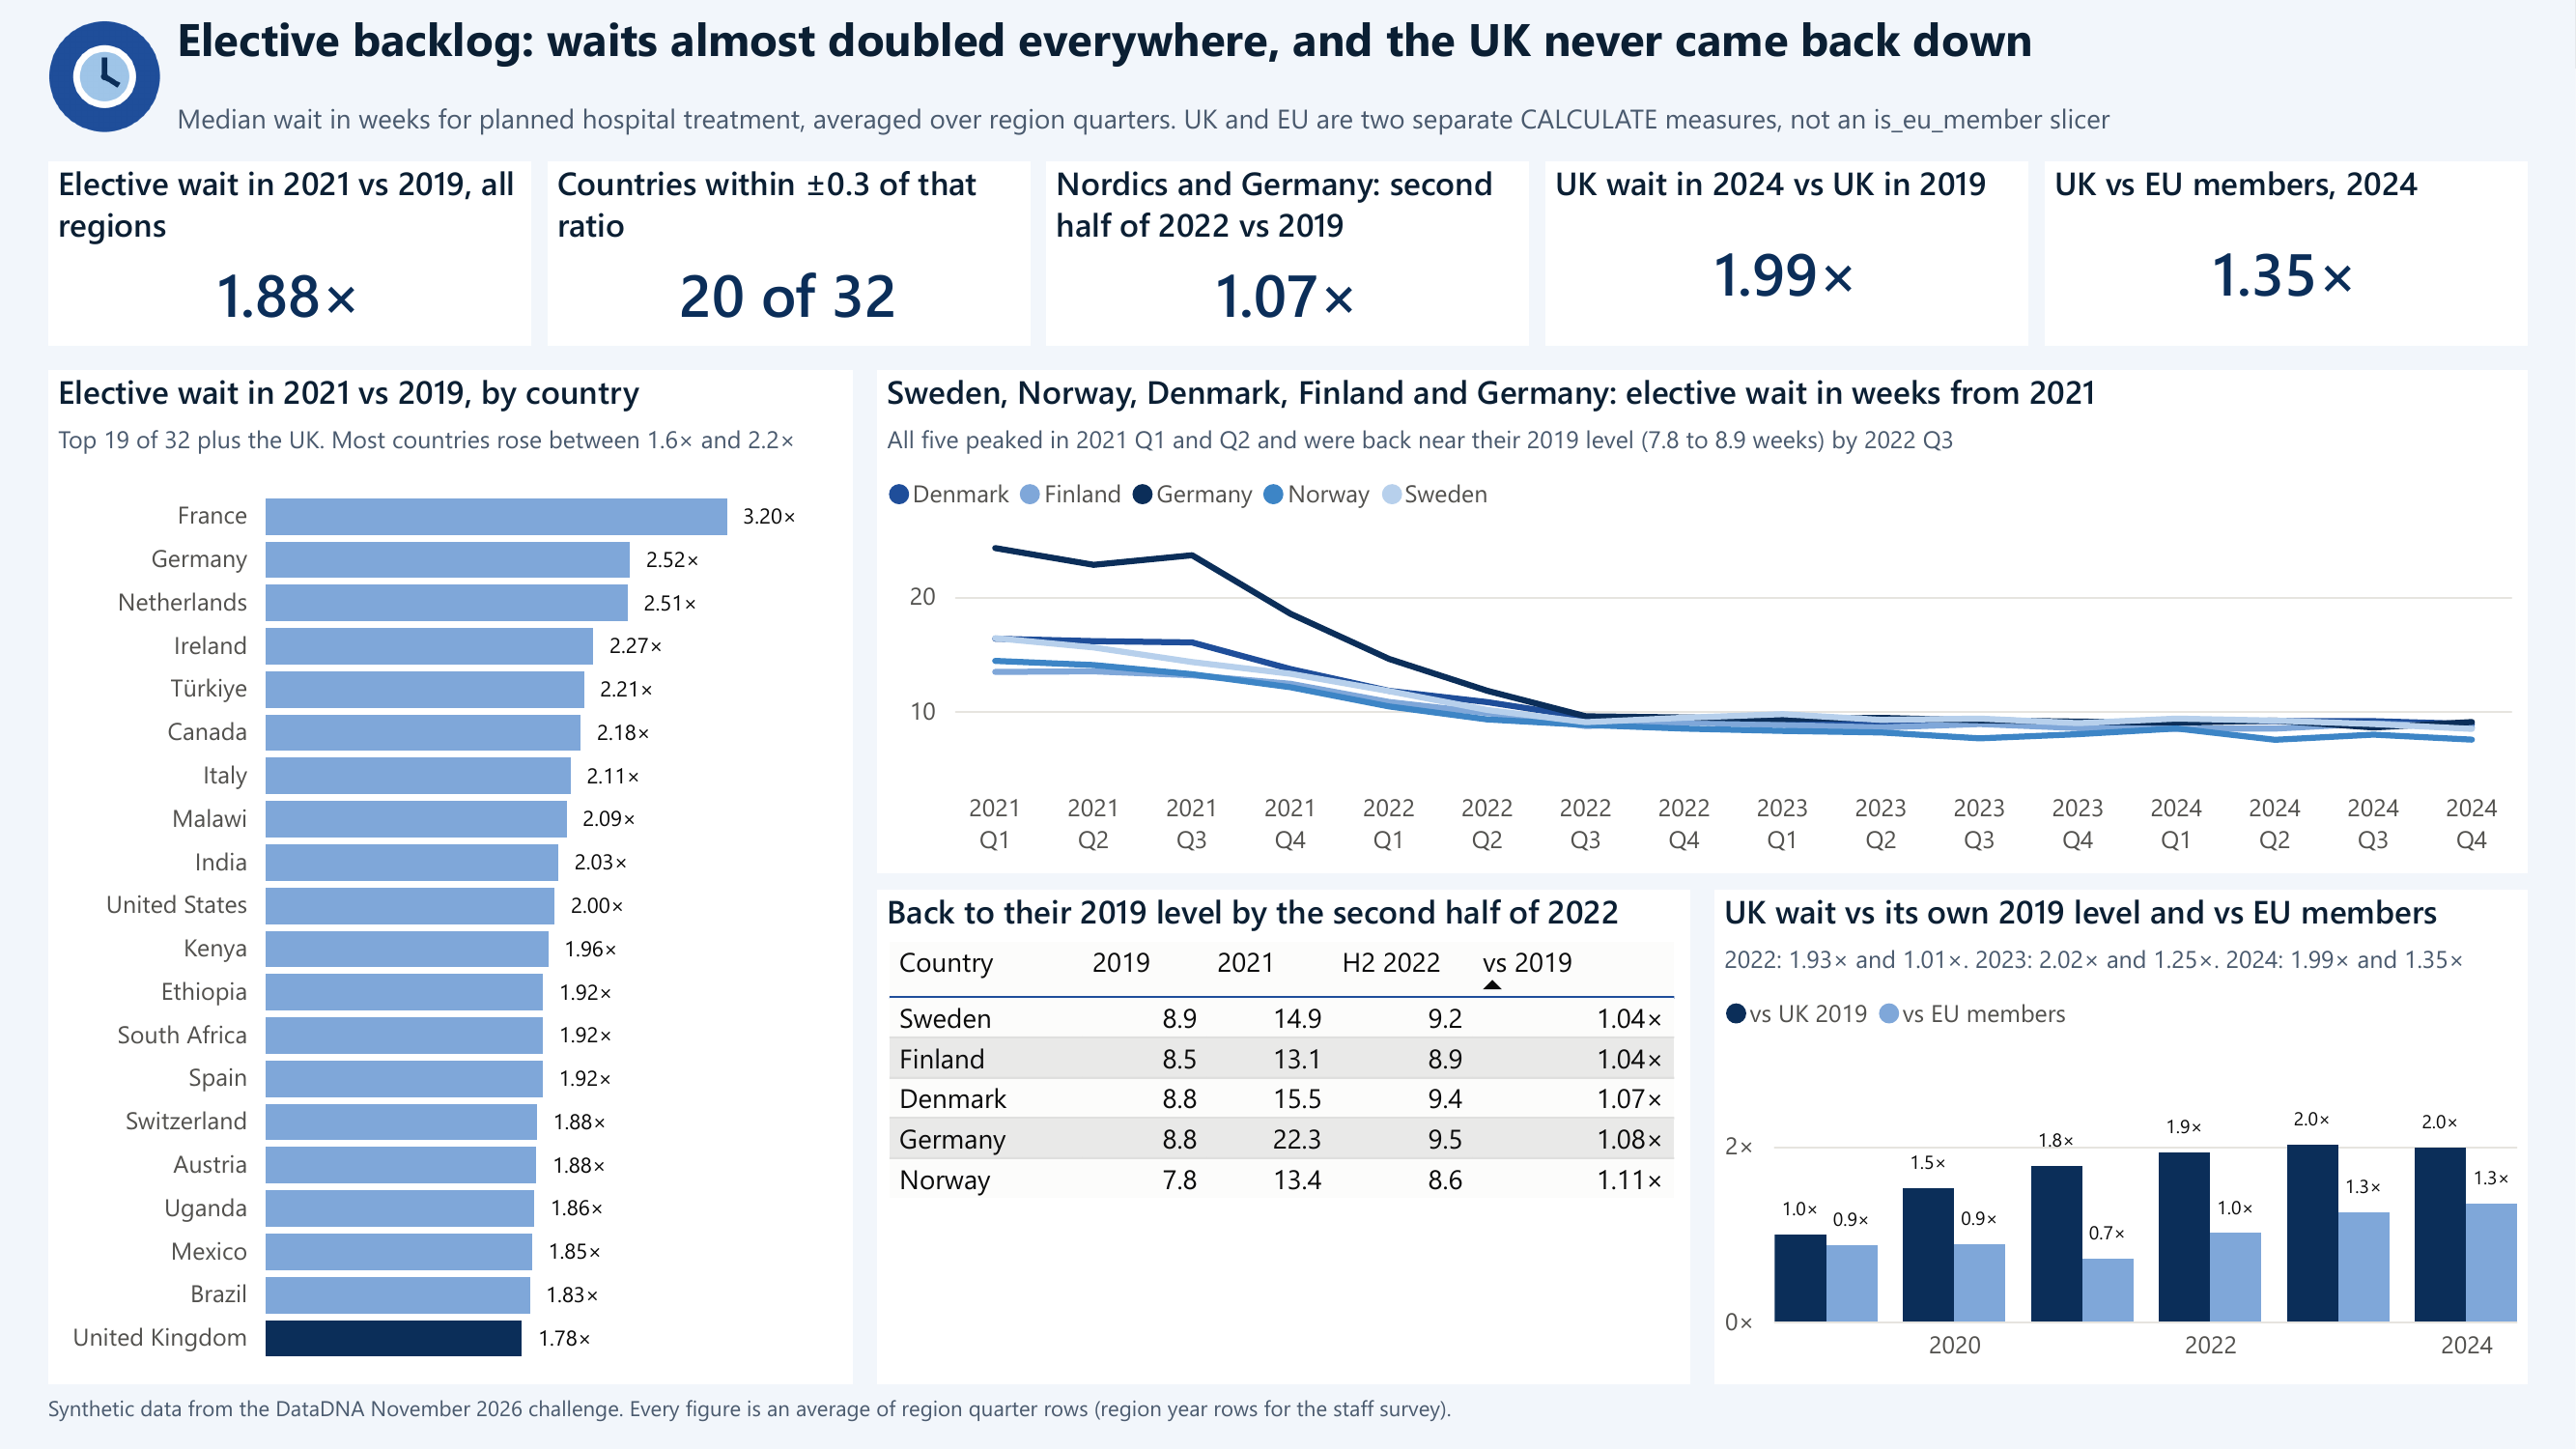

This screenshot's page, from the dashboard's own definition file:
{"tool":"powerbi","page":{"name":"Elective Recovery","canvas":[1280,720],"ordinal":2},"visuals":[{"type":"image","box":[24,10,56,56],"z":1000},{"type":"textbox","box":[88,4,1168,46],"z":1001},{"type":"textbox","box":[88,50,1168,26],"z":1002},{"type":"textbox","box":[24,690,1232,28],"z":1003},{"type":"card","title":"Elective wait in 2021 vs 2019, all regions","fields":{"Values":["_Measures.Wait Ratio 2021 to 2019"]},"box":[24,80,240,92],"z":1004},{"type":"card","title":"Countries within ±0.3 of that ratio","fields":{"Values":["_Measures.Similar Rise Label"]},"box":[272,80,240,92],"z":1005},{"type":"card","title":"Nordics and Germany: second half of 2022 vs 2019","fields":{"Values":["_Measures.Nordics & Germany H2 2022 vs 2019"]},"box":[520,80,240,92],"z":1006},{"type":"card","title":"UK wait in 2024 vs UK in 2019","fields":{"Values":["_Measures.UK Wait 2024 vs UK 2019"]},"box":[768,80,240,92],"z":1007},{"type":"card","title":"UK vs EU members, 2024","fields":{"Values":["_Measures.UK to EU Wait Ratio 2024"]},"box":[1016,80,240,92],"z":1008},{"type":"barChart","title":"Elective wait in 2021 vs 2019, by country","fields":{"Category":["dim_country.country_name"],"Y":["_Measures.Wait Ratio 2021 Chart"]},"box":[24,184,400,504],"z":1009},{"type":"lineChart","title":"Sweden, Norway, Denmark, Finland and Germany: elective wait in weeks from 2021","fields":{"Category":["dim_date.year_quarter"],"Y":["_Measures.Avg Elective Wait (weeks)"],"Series":["dim_country.country_name"]},"box":[436,184,820,250],"z":1010},{"type":"tableEx","title":"Back to their 2019 level by the second half of 2022","fields":{"Values":["dim_country.country_name","_Measures.Wait 2019","_Measures.Wait 2021","_Measures.Wait H2 2022","_Measures.Wait H2 2022 vs 2019"]},"box":[436,442,404,246],"z":1011},{"type":"clusteredColumnChart","title":"UK wait vs its own 2019 level and vs EU members","fields":{"Category":["dim_date.year"],"Y":["_Measures.UK Wait vs UK 2019","_Measures.UK to EU Wait Ratio"]},"box":[852,442,404,246],"z":1012}]}

Visuals, with their boxes in screenshot pixels (x1, y1, x2, y2), scaled from the page's 1280x720 canvas onto the 2576x1449 screenshot:
image: [48,20,161,133]
textbox: [177,8,2528,100]
textbox: [177,100,2528,153]
textbox: [48,1389,2528,1445]
"Elective wait in 2021 vs 2019, all regions" card: [48,161,531,346]
"Countries within ±0.3 of that ratio" card: [548,161,1031,346]
"Nordics and Germany: second half of 2022 vs 2019" card: [1046,161,1530,346]
"UK wait in 2024 vs UK in 2019" card: [1545,161,2028,346]
"UK vs EU members, 2024" card: [2045,161,2528,346]
"Elective wait in 2021 vs 2019, by country" barChart: [48,370,853,1384]
"Sweden, Norway, Denmark, Finland and Germany: elective wait in weeks from 2021" lineChart: [877,370,2528,873]
"Back to their 2019 level by the second half of 2022" tableEx: [877,890,1690,1384]
"UK wait vs its own 2019 level and vs EU members" clusteredColumnChart: [1714,890,2528,1384]
